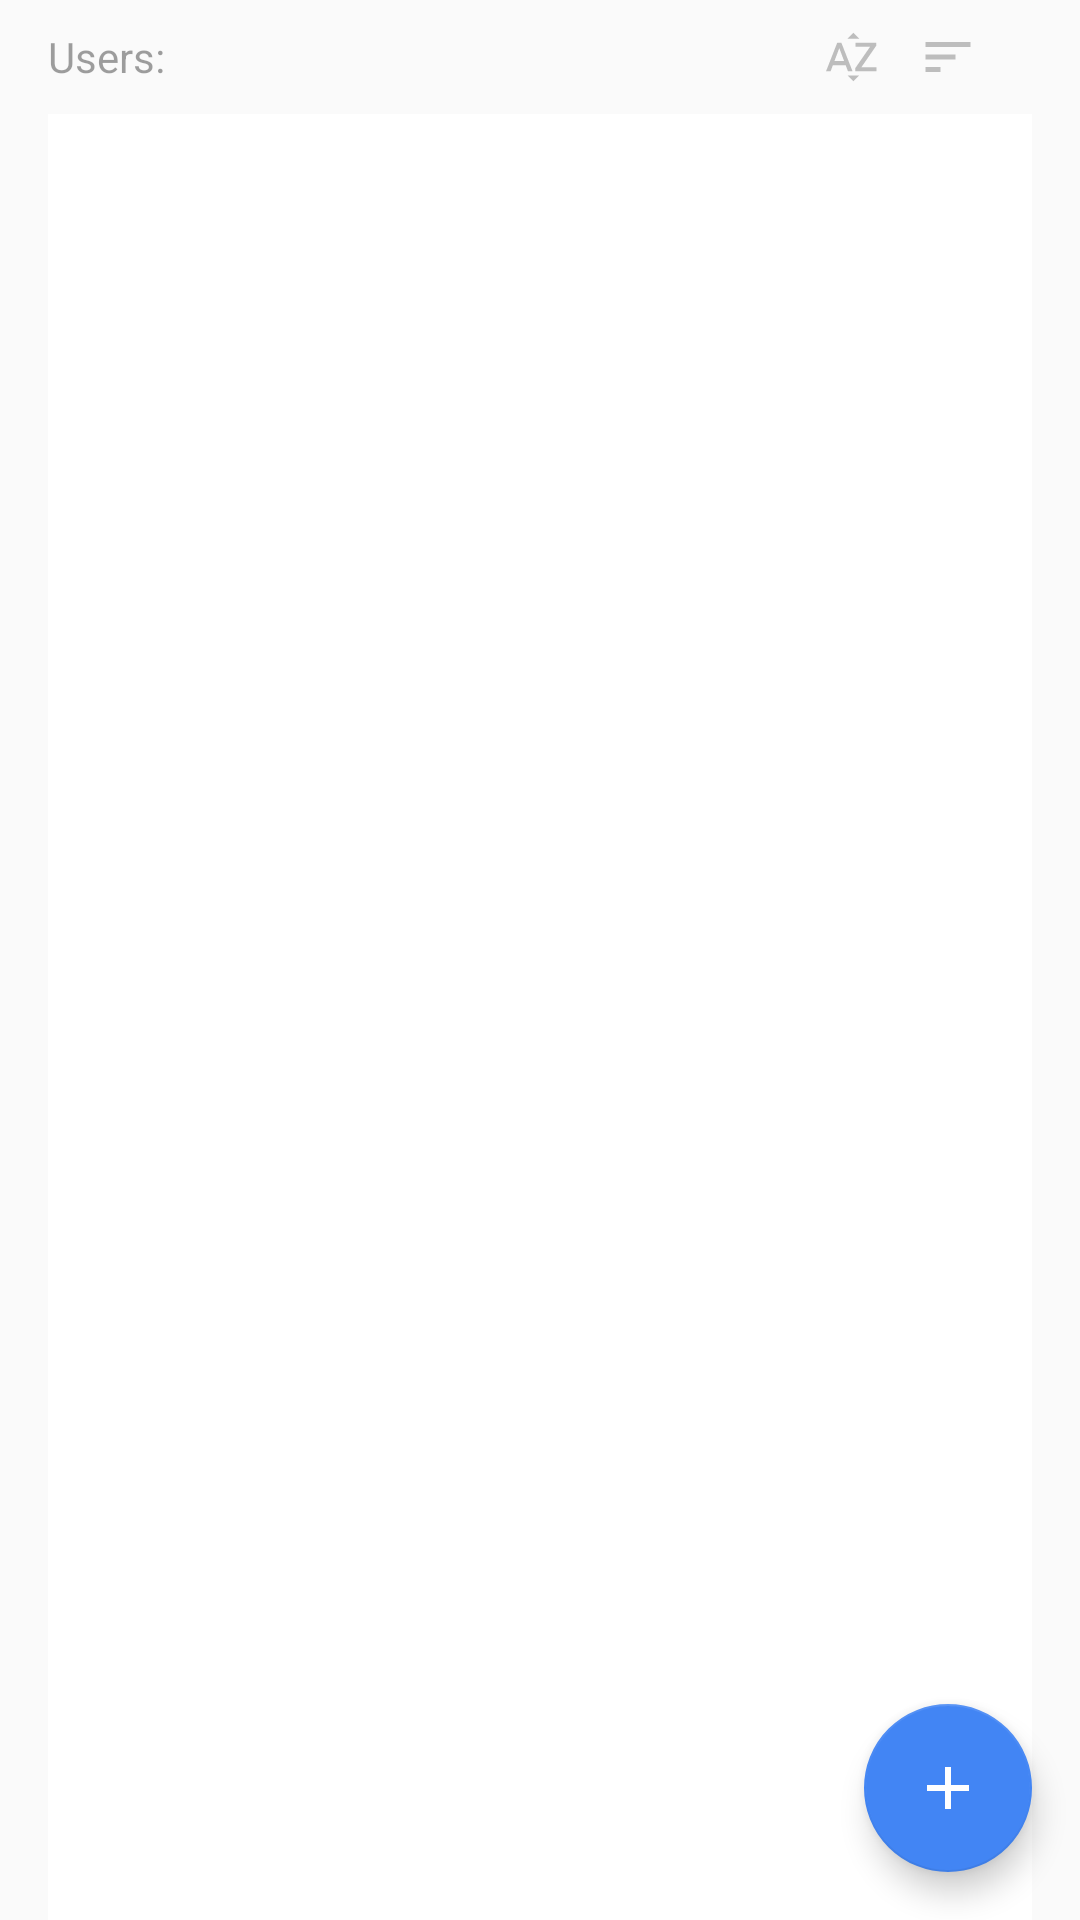

Screen size 1080px×1920px. Icon name, then its box in pixels as (x1, y1, x2, y2):
add: (864, 1704, 1032, 1872)
sort: (925, 42, 971, 72)
sort aplha: (826, 33, 877, 81)
